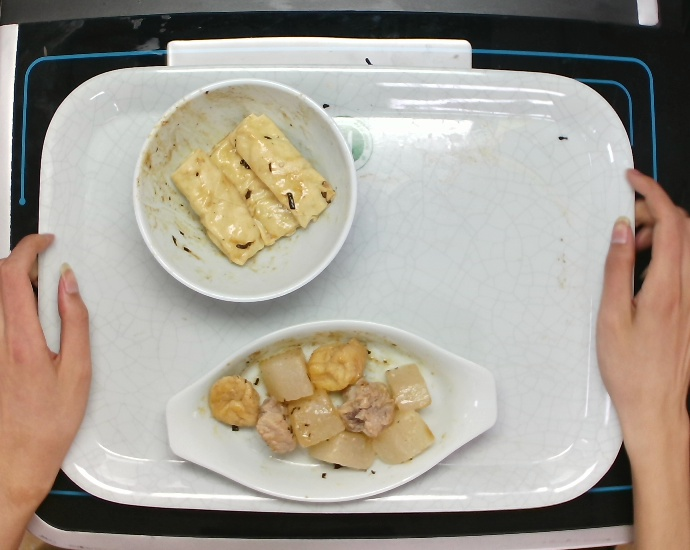JYsf-Fan_Wan: (128, 72, 365, 307)
JYsf-Yu_Pan: (157, 313, 505, 505)
